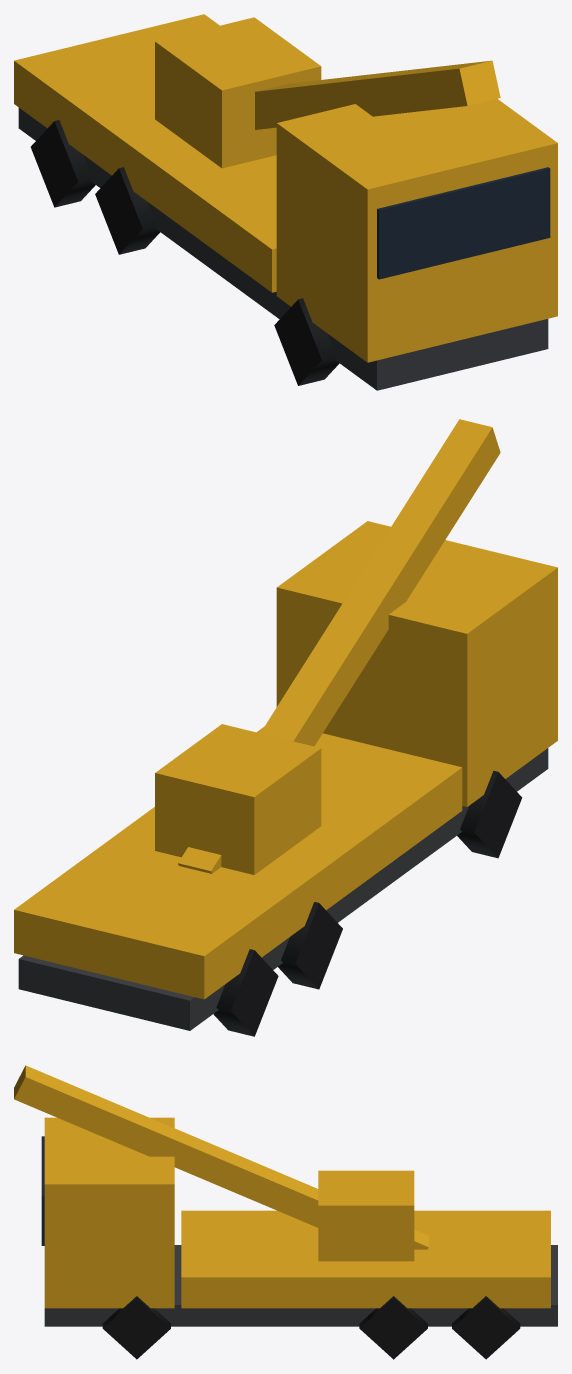
The model's file is veh_ground_crane_truck_a07_lod2.glb.
3 renders of one model, top to bottom at view 1: azimuth 30°, elevation 25°; view 2: azimuth 150°, elevation 25°; view 3: azimuth 270°, elevation 25°, orthographic. The views are drawn at different scales.
Visible parts, largest first — view 1: body, crane, wheel_0, wheel_2, wheel_4; view 2: body, crane, wheel_4, wheel_0, wheel_2; view 3: body, crane, wheel_3, wheel_1, wheel_5.
Boxes of the visible parts, x1,y1,x2,y2 form: body: (14, 14, 557, 390); crane: (155, 17, 500, 168); wheel_0: (30, 120, 95, 207); wheel_2: (95, 167, 160, 254); wheel_4: (274, 298, 339, 385); body: (14, 521, 557, 1030); crane: (155, 419, 500, 874); wheel_4: (457, 770, 522, 858); wheel_0: (213, 949, 278, 1036); wheel_2: (278, 902, 342, 989); body: (41, 1117, 557, 1326); crane: (14, 1065, 428, 1261); wheel_3: (359, 1296, 427, 1359); wheel_1: (452, 1296, 520, 1359); wheel_5: (102, 1296, 170, 1359).
Size of the model in its own units: 2.42 by 4.09 by 7.95.
